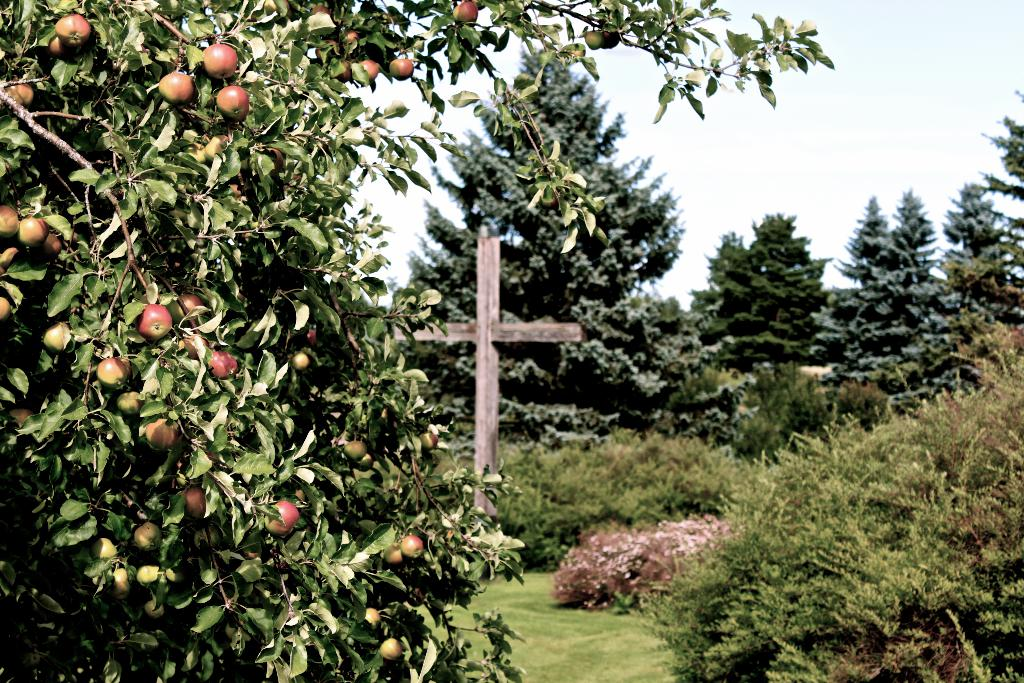Apple: (0, 201, 244, 623), (152, 44, 290, 199), (264, 0, 416, 83), (263, 500, 299, 533), (56, 15, 93, 41), (338, 435, 370, 461), (5, 79, 38, 104), (375, 634, 408, 658), (450, 0, 476, 25), (400, 534, 425, 556), (382, 540, 401, 564), (364, 608, 384, 629), (600, 31, 622, 48), (407, 587, 426, 606), (421, 429, 440, 446), (583, 30, 600, 48), (293, 351, 307, 371), (50, 39, 65, 56), (567, 46, 584, 58), (305, 332, 316, 348)
